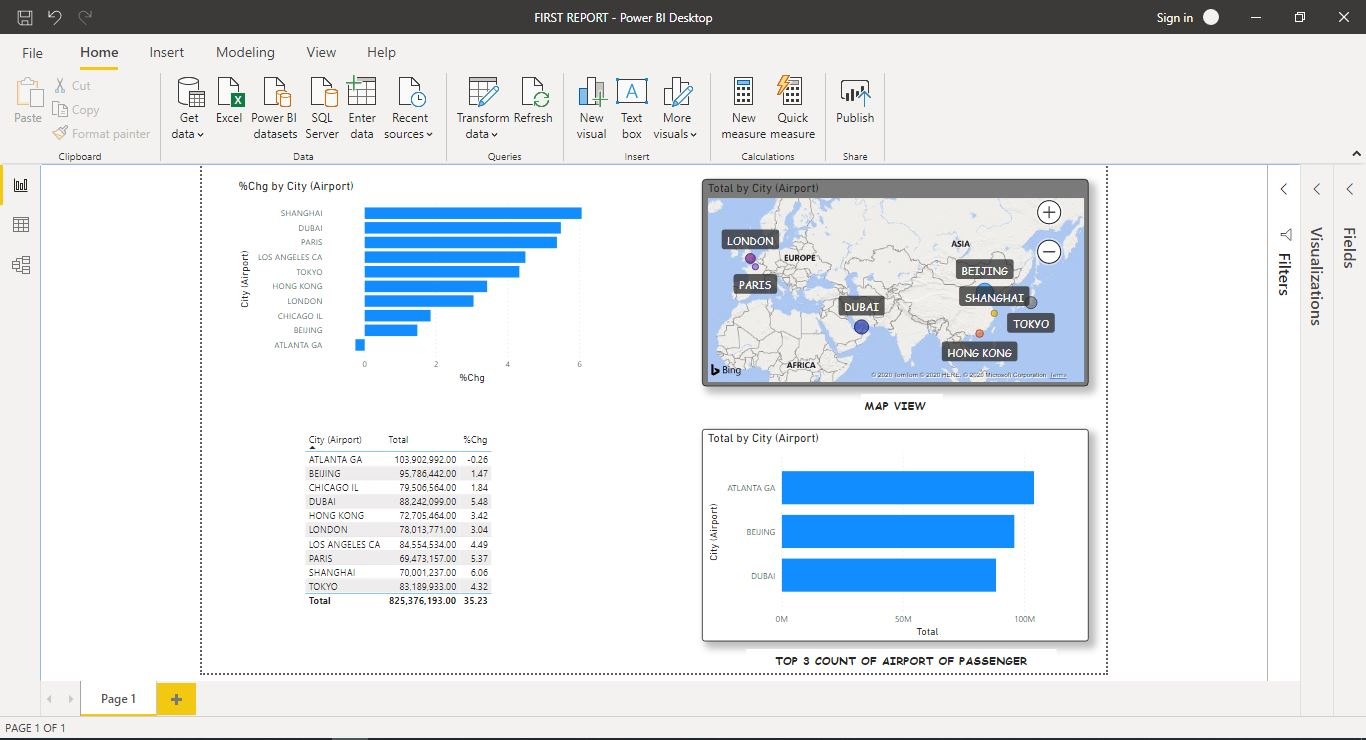

Layout of this report page (visuals, bound fields, positions):
{"tool":"powerbi","page":{"name":"Page 1","canvas":[1280,720],"ordinal":0},"visuals":[{"type":"map","fields":{"Category":["Table 1.City (Airport)"],"Size":["Sum(Table 1.Total)"]},"box":[708.4,19.4,548.4,294.2],"z":0},{"type":"barChart","fields":{"Category":["Table 1.City (Airport)"],"Y":["Sum(Table 1.Total)"]},"box":[708.4,374.2,548.4,300.6],"z":1},{"type":"textbox","box":[771.6,686.5,440,33.5],"z":2},{"type":"textbox","box":[934.2,323.9,116.1,36.1],"z":3},{"type":"clusteredBarChart","fields":{"Y":["Sum(Table 1.%Chg)"],"Category":["Table 1.City (Airport)"]},"box":[47,20.2,547.6,294],"z":4},{"type":"tableEx","fields":{"Values":["Table 1.City (Airport)","Sum(Table 1.Total)","Sum(Table 1.%Chg)"]},"box":[140.3,374.2,396.9,300.5],"z":5},{"type":"textbox","box":[21.3,654.8,637.8,38.3],"z":6}]}

Visuals, with their boxes on the page's 1280x720 design canvas (x1, y1, x2, y2). These are canvas units, not pixel positions in the 1366x740 screenshot, which may show the page scaled, cropped or inside an application window:
map - Table 1.City (Airport) x Sum(Table 1.Total): (x1=708, y1=19, x2=1257, y2=314)
barChart - Table 1.City (Airport) x Sum(Table 1.Total): (x1=708, y1=374, x2=1257, y2=675)
textbox: (x1=772, y1=686, x2=1212, y2=720)
textbox: (x1=934, y1=324, x2=1050, y2=360)
clusteredBarChart - Sum(Table 1.%Chg) x Table 1.City (Airport): (x1=47, y1=20, x2=595, y2=314)
tableEx - Table 1.City (Airport) x Sum(Table 1.Total): (x1=140, y1=374, x2=537, y2=675)
textbox: (x1=21, y1=655, x2=659, y2=693)
